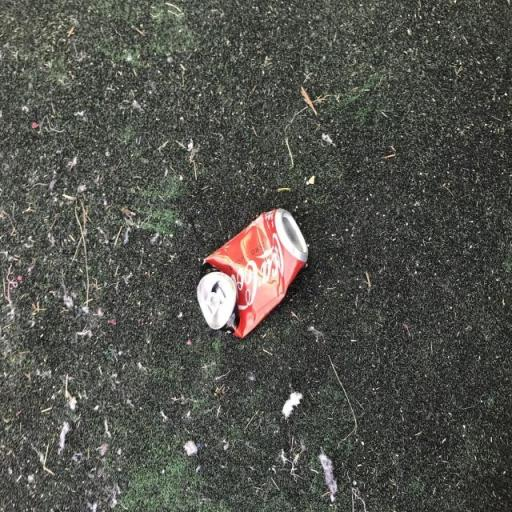metal: (180, 202, 335, 360)
